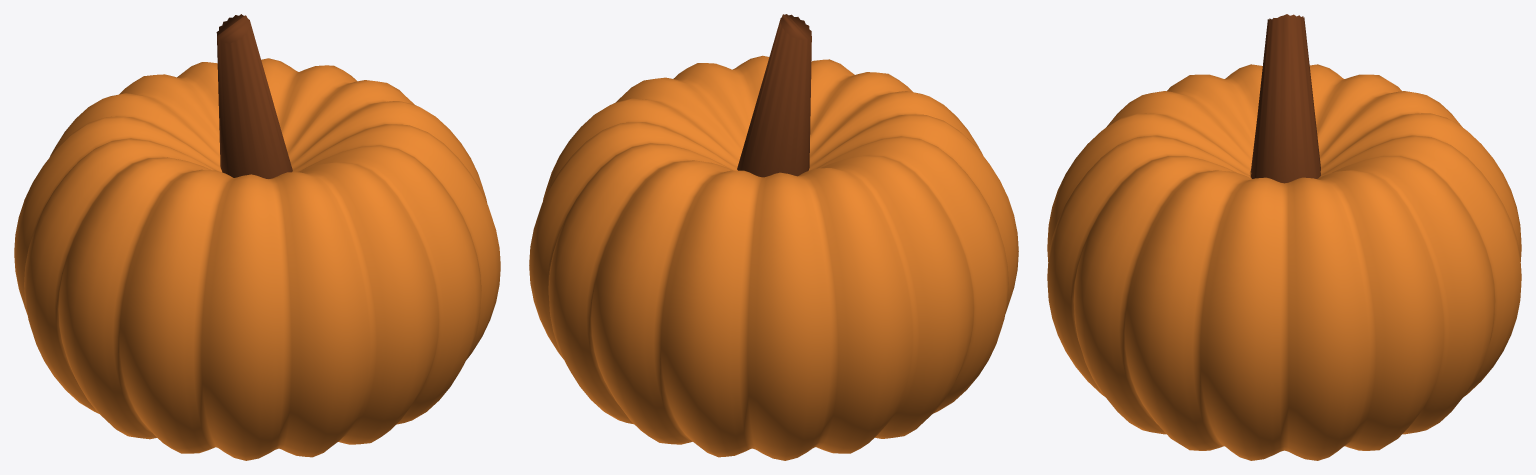
The model's file is Pumpkin.glb.
3 renders of one model, left to right at view 1: azimuth 30°, elevation 25°; view 2: azimuth 150°, elevation 25°; view 3: azimuth 270°, elevation 25°, orthographic.
Visible parts, largest first — view 1: Sphere.008; view 2: Sphere.008; view 3: Sphere.008.
Part boxes in pixels (box(x1,y1,x2,y2)): Sphere.008: box(14, 14, 500, 460); Sphere.008: box(529, 14, 1018, 460); Sphere.008: box(1047, 14, 1521, 460).
Size of the model in its own units: 0.1603 by 0.1416 by 0.1603.
